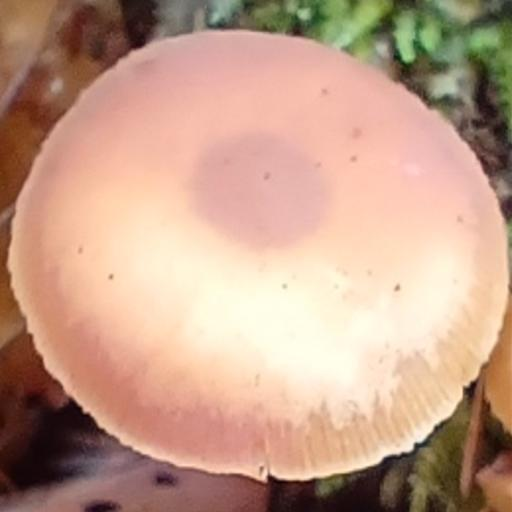mushroom: (16, 27, 494, 472)
